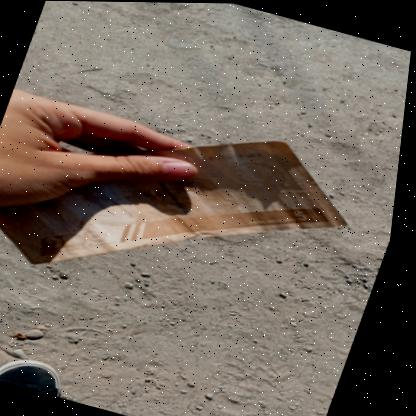five-back-vef: (0, 70, 381, 337)
